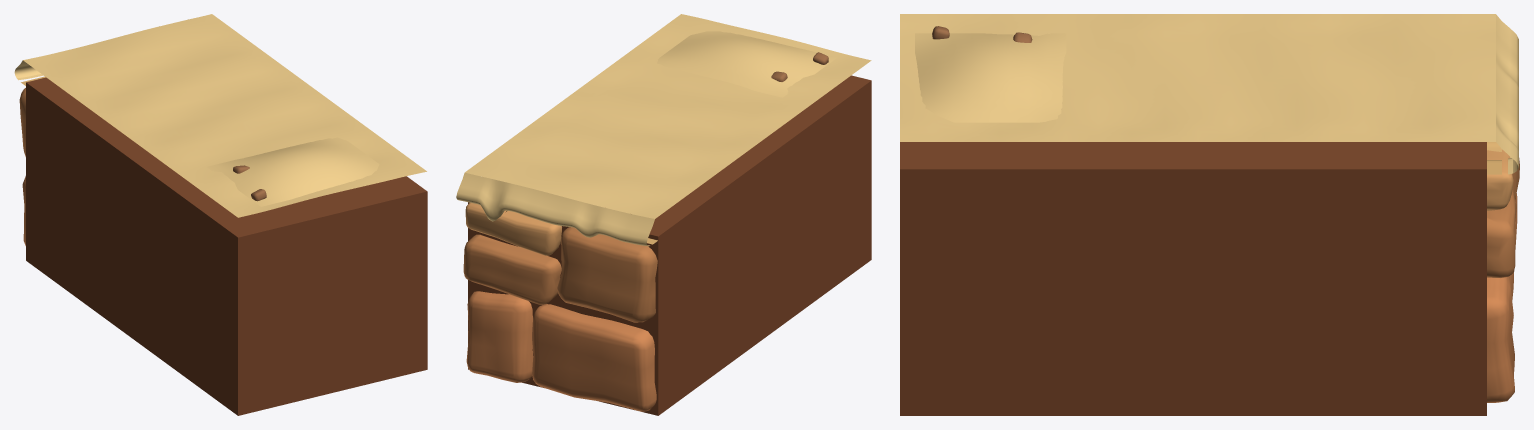
The model's file is SD_G11_Sandstone_Core_V2.fbx.
The picture shows the model from 3 angles, left to right: view 1: azimuth 30°, elevation 25°; view 2: azimuth 150°, elevation 25°; view 3: azimuth 270°, elevation 25°; orthographic projection. The views are drawn at different scales.
Parts seen in each view (by area): view 1: SD_G11_Sandstone_Core_V2; view 2: SD_G11_Sandstone_Core_V2; view 3: SD_G11_Sandstone_Core_V2.
Boxes of the visible parts, left/top/right/bottom form: SD_G11_Sandstone_Core_V2: left=14, top=14, right=427, bottom=415; SD_G11_Sandstone_Core_V2: left=456, top=14, right=871, bottom=415; SD_G11_Sandstone_Core_V2: left=900, top=14, right=1519, bottom=415.
Bounding box in the file's own units: 200 × 213 × 410.
